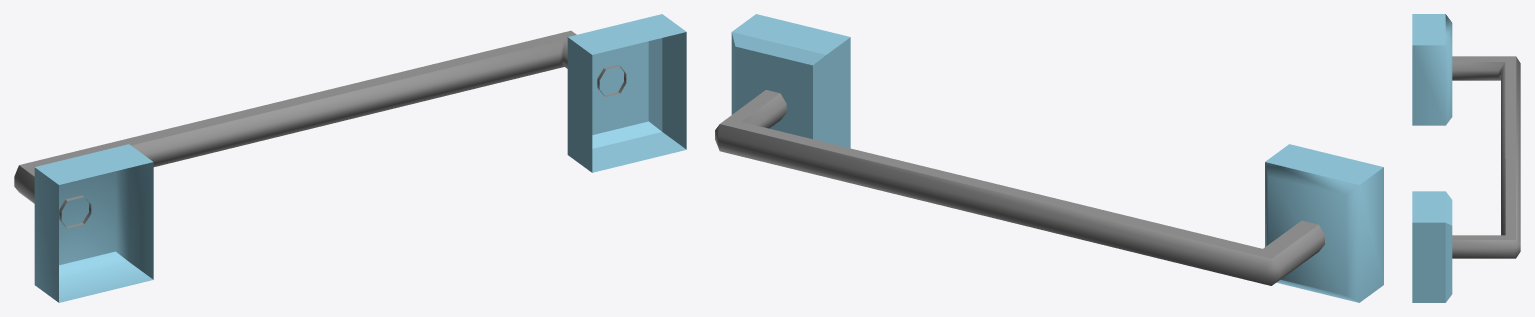
File: PROPS_towelHolder_02.FBX
The picture shows the model from 3 angles, left to right: view 1: azimuth 30°, elevation 25°; view 2: azimuth 150°, elevation 25°; view 3: azimuth 270°, elevation 25°; orthographic projection. The views are drawn at different scales.
Visible parts, largest first — view 1: PROPS_towelHolder_02; view 2: PROPS_towelHolder_02; view 3: PROPS_towelHolder_02.
Part boxes in pixels (x1=…): PROPS_towelHolder_02: x1=14, y1=14, x2=686, y2=302; PROPS_towelHolder_02: x1=715, y1=14, x2=1383, y2=302; PROPS_towelHolder_02: x1=1412, y1=14, x2=1520, y2=302.
Size of the model in its own units: 73.48 by 13.19 by 16.1.
